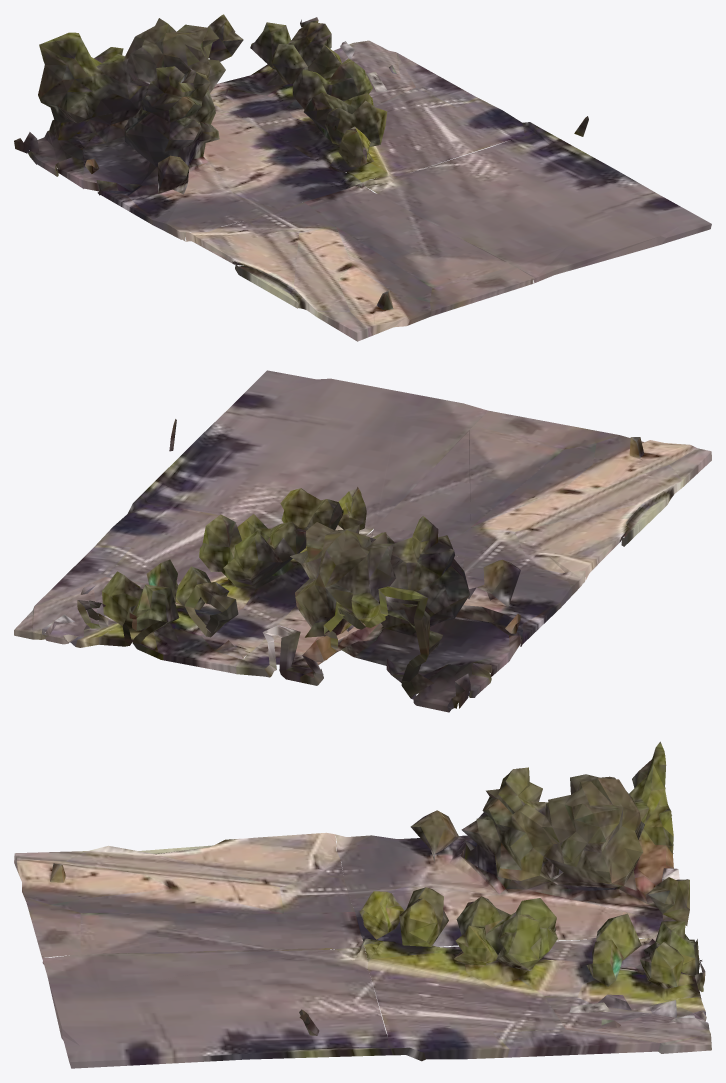
The picture shows the model from 3 angles, top to bottom: view 1: azimuth 30°, elevation 25°; view 2: azimuth 150°, elevation 25°; view 3: azimuth 270°, elevation 25°; orthographic projection. The views are drawn at different scales.
Visible parts, largest first — view 1: Mesh_0; view 2: Mesh_0; view 3: Mesh_0.
Boxes of the visible parts, x1,y1,x2,y2 form: Mesh_0: (14, 14, 711, 341); Mesh_0: (14, 370, 711, 712); Mesh_0: (14, 741, 711, 1068).
Bounding box in the file's own units: 66.59 × 17.65 × 82.34.
1 material, 1 textured.
